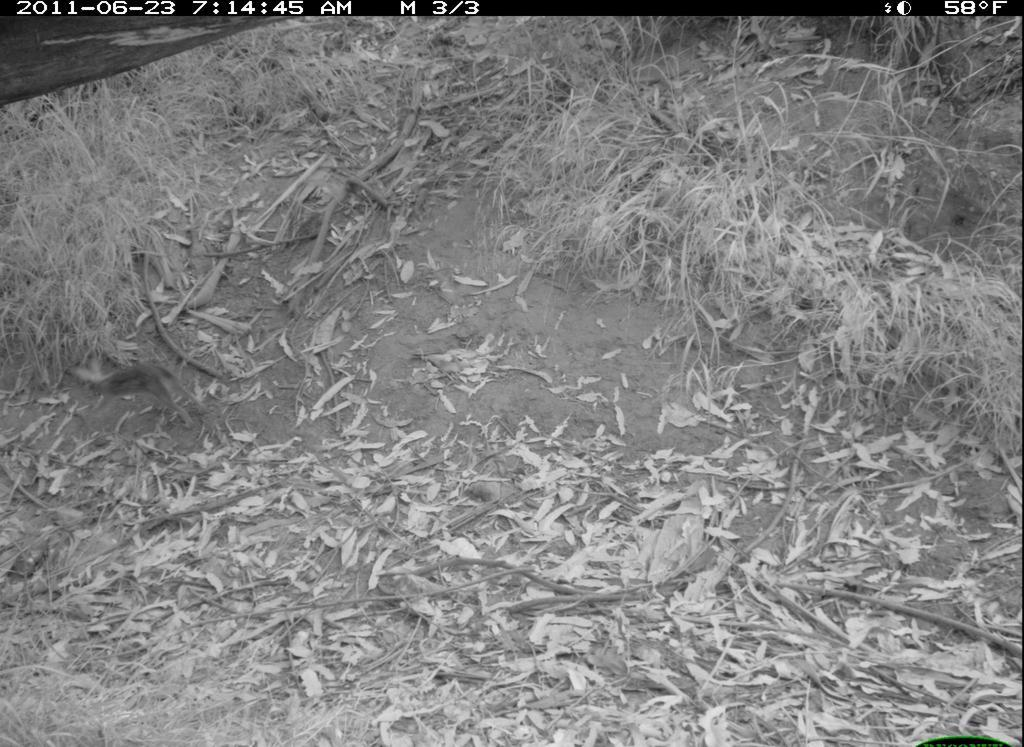rabbit: (66, 350, 209, 432)
